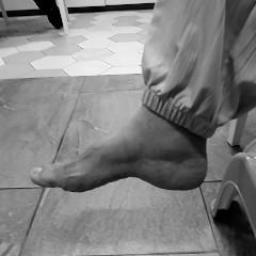Medial View -Right Foot-: (15, 90, 230, 207)
